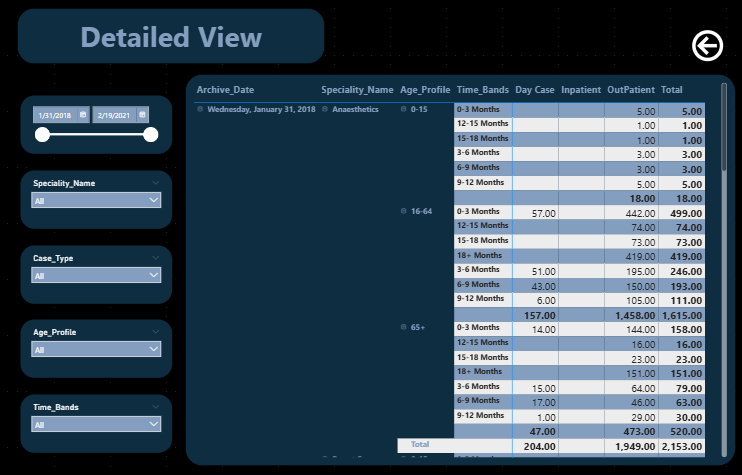

The dashboard page shown, as its layout file describes it:
{"tool":"powerbi","page":{"name":"Detailed View","canvas":[1280,820],"ordinal":1},"visuals":[{"type":"slicer","fields":{"Values":["All_Data.Archive_Date"]},"box":[32,160,272,112],"z":0},{"type":"slicer","fields":{"Values":["All_Data.Speciality_Name"]},"box":[32,288,272,112],"z":1000},{"type":"slicer","fields":{"Values":["All_Data.Case_Type"]},"box":[32,416,272,112],"z":2000},{"type":"textbox","box":[32,16,528,96],"z":3000},{"type":"slicer","fields":{"Values":["All_Data.Age_Profile"]},"box":[32,544,272,112],"z":4000},{"type":"slicer","fields":{"Values":["All_Data.Time_Bands"]},"box":[32,672,272,112],"z":5000},{"type":"pivotTable","fields":{"Rows":["All_Data.Archive_Date","All_Data.Speciality_Name","All_Data.Age_Profile","All_Data.Time_Bands"],"Columns":["All_Data.Case_Type"],"Values":["Sum(All_Data.Total)"]},"box":[320,128,944,672],"z":6000},{"type":"actionButton","box":[1184,48,96,64],"z":7000}]}

Visuals, with their boxes in screenshot pixels (x1, y1, x2, y2), scaled from the page's 1280x820 canvas onto the 742x475 screenshot:
slicer - All_Data.Archive_Date: [19,93,176,158]
slicer - All_Data.Speciality_Name: [19,167,176,232]
slicer - All_Data.Case_Type: [19,241,176,306]
textbox: [19,9,325,65]
slicer - All_Data.Age_Profile: [19,315,176,380]
slicer - All_Data.Time_Bands: [19,389,176,454]
pivotTable - All_Data.Archive_Date x All_Data.Speciality_Name: [186,74,733,463]
actionButton: [686,28,741,65]
